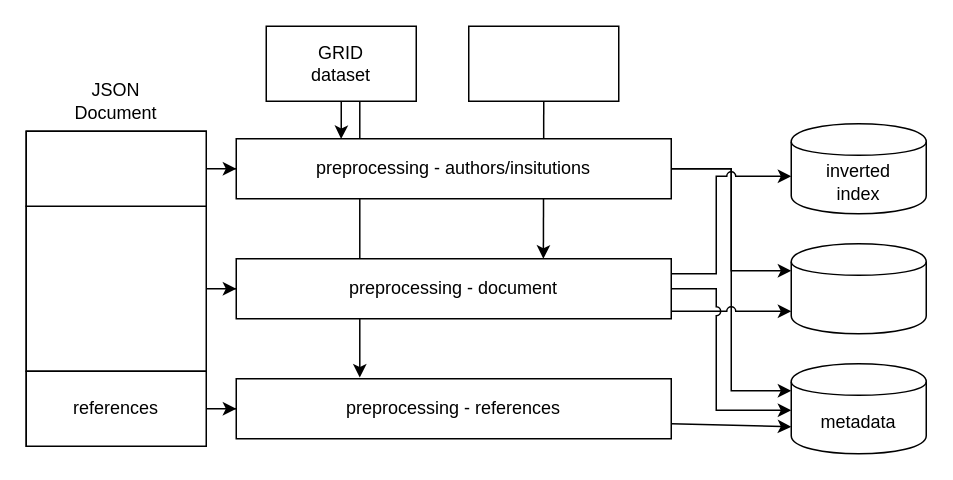
Some shapes in this 953 by 480 pixel diagram are drawn without their labels. Here are the shapes that lost their labels. From the top down, the centre of each, then its label:
At pixel 543 63: "CORD-9 metadata".
At pixel 115 168: "author/institutions".
At pixel 115 288: "title, abstract, body".
At pixel 858 288: "document index".
